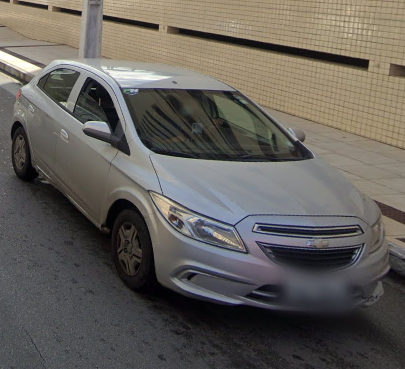car: (9, 54, 390, 328)
